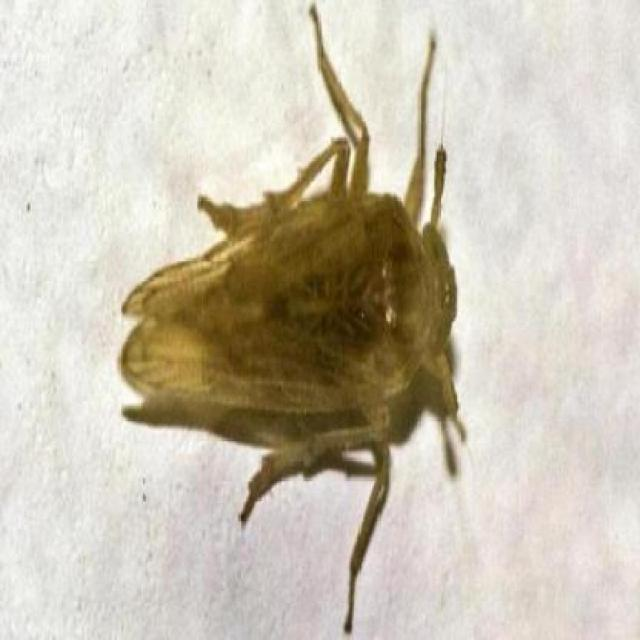brown-planthopper: (115, 140, 472, 494)
